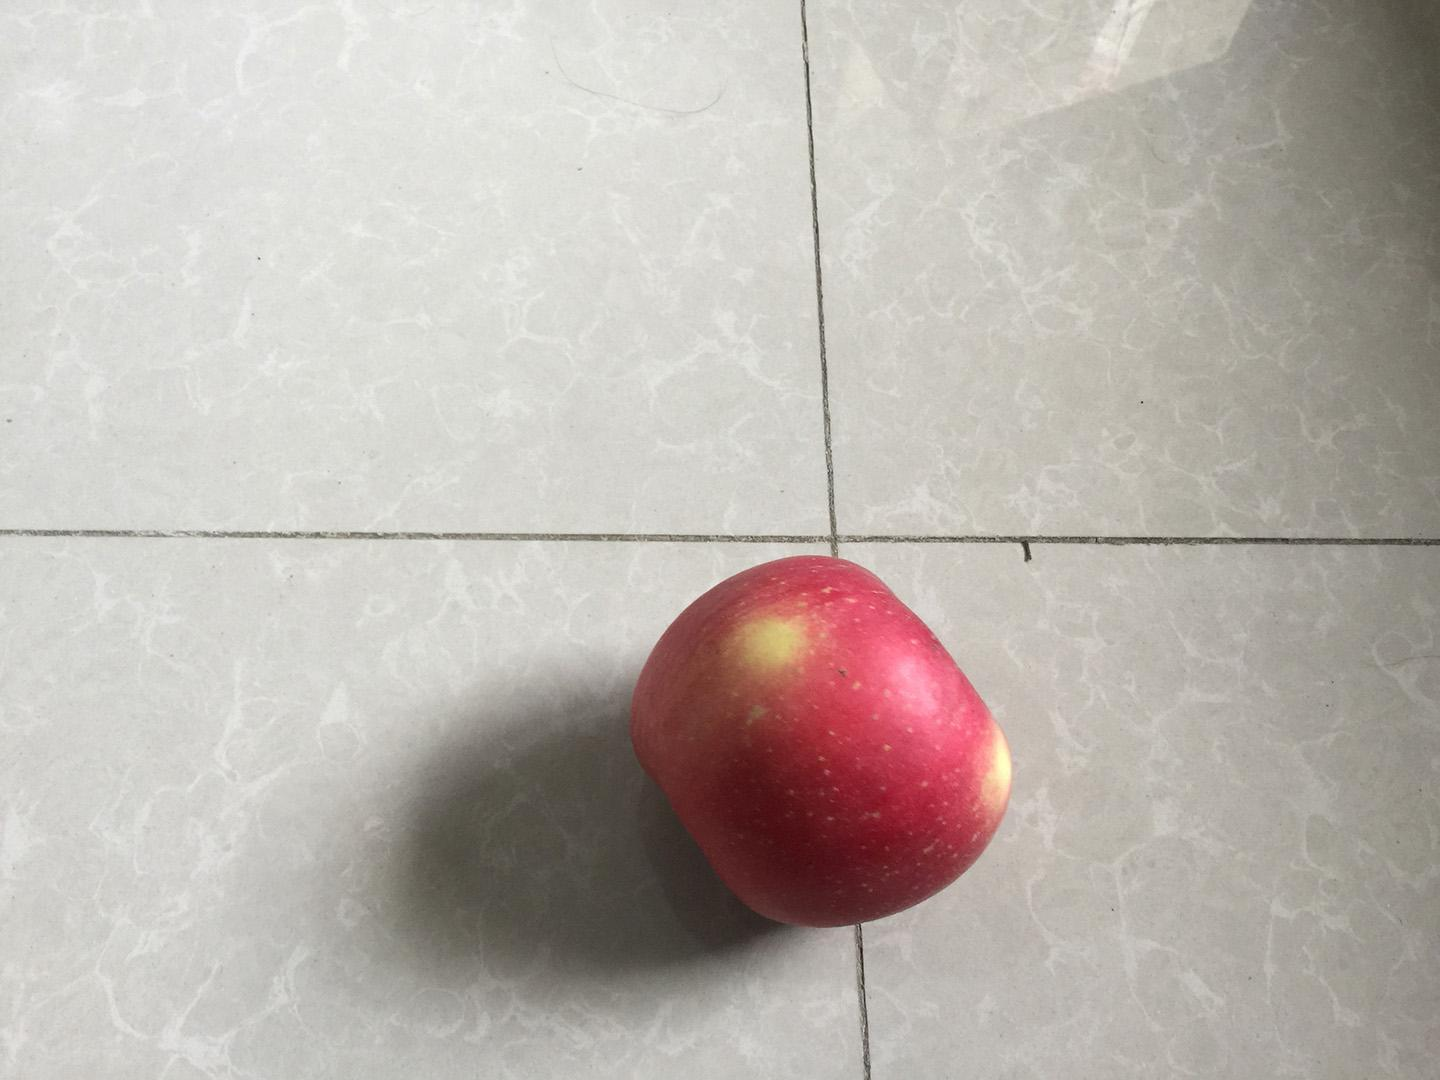apple: (626, 552, 1020, 933)
